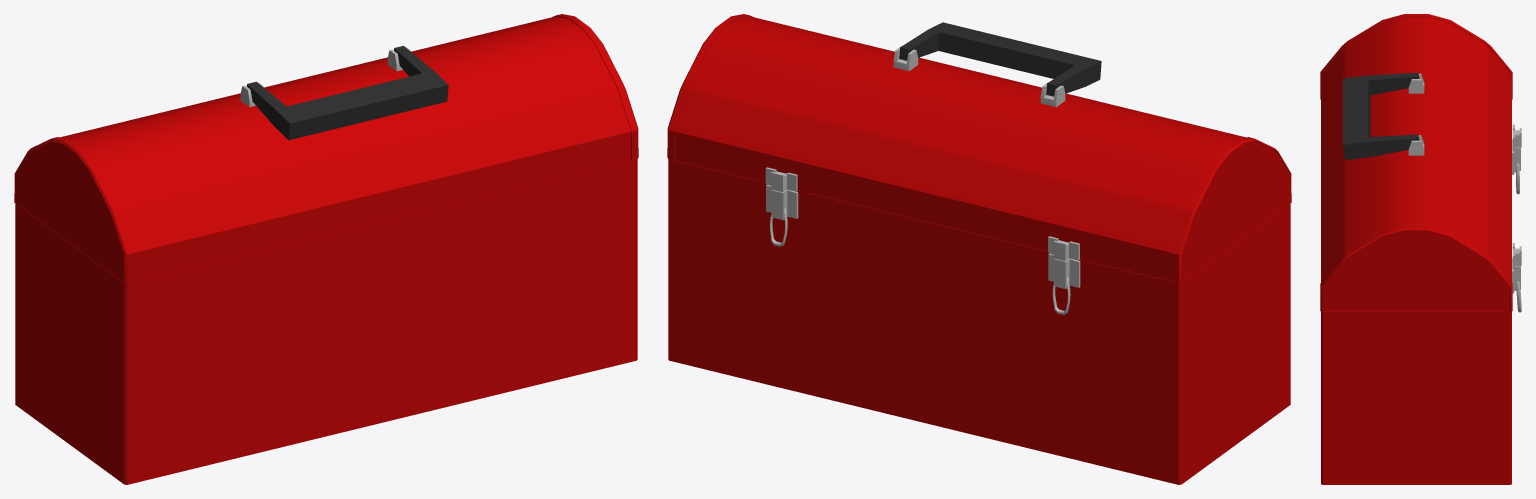
Rendered from Toolbox.fbx.
The picture shows the model from 3 angles, left to right: view 1: azimuth 30°, elevation 25°; view 2: azimuth 150°, elevation 25°; view 3: azimuth 270°, elevation 25°; orthographic projection. The views are drawn at different scales.
Visible parts, largest first — view 1: Box, Lid, Handle; view 2: Box, Lid, Handle, Latch_Bottom, Latch_Bottom1; view 3: Lid, Box, Handle, Handle_Hinge_2, Handle_Hinge_1.
Part boxes in pixels (x1,y1,x2,y2): Box: (15, 159, 637, 484); Lid: (14, 14, 638, 283); Handle: (247, 46, 448, 140); Box: (668, 159, 1290, 484); Lid: (667, 14, 1291, 283); Handle: (899, 22, 1101, 96); Latch_Bottom: (766, 185, 798, 220); Latch_Bottom1: (1048, 253, 1080, 289); Lid: (1320, 14, 1512, 311); Box: (1321, 311, 1511, 484); Handle: (1343, 72, 1419, 159); Handle_Hinge_2: (1408, 135, 1424, 155); Handle_Hinge_1: (1408, 73, 1424, 93).
Size of the model in its own units: 40.1 by 23.57 by 15.84.
3 materials, 3 textured.
